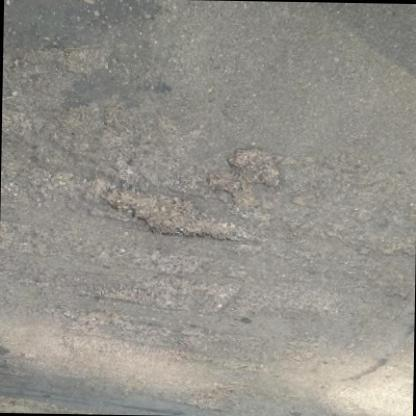pothole: (99, 182, 242, 242), (96, 272, 242, 316), (0, 162, 107, 204), (226, 145, 282, 189), (206, 172, 258, 209)
